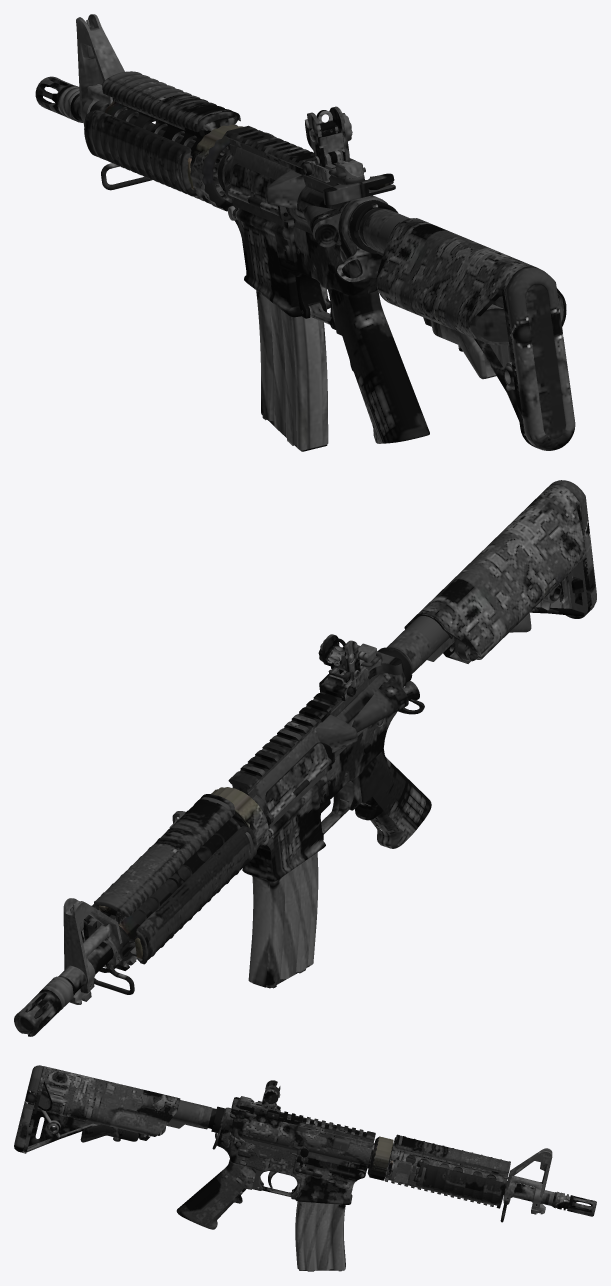
3 renders of one model, top to bottom at view 1: azimuth 30°, elevation 25°; view 2: azimuth 150°, elevation 25°; view 3: azimuth 270°, elevation 25°, orthographic. The views are drawn at different scales.
Parts seen in each view (by area): view 1: p_m4a4; view 2: p_m4a4; view 3: p_m4a4.
Boxes of the visible parts, bbox=[...] form: p_m4a4: bbox=[35, 14, 575, 451]; p_m4a4: bbox=[14, 480, 596, 1036]; p_m4a4: bbox=[14, 1065, 596, 1271].
Size of the model in its own units: 0.1624 by 0.403 by 1.11.
Materials: 1 (1 with a texture image).
